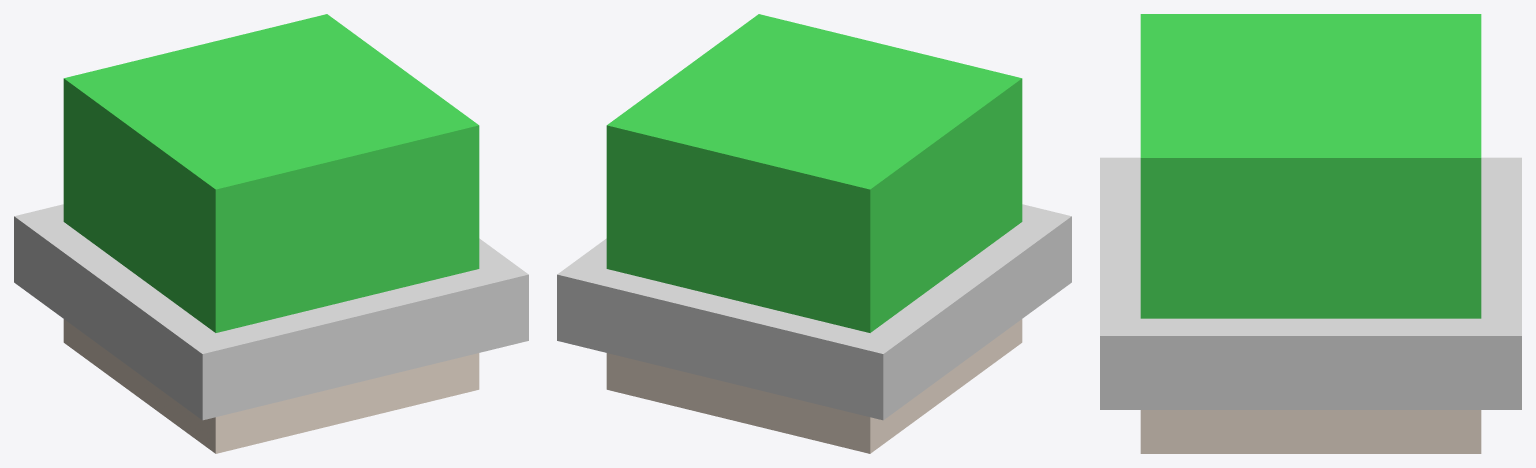
The picture shows the model from 3 angles, left to right: view 1: azimuth 30°, elevation 25°; view 2: azimuth 150°, elevation 25°; view 3: azimuth 270°, elevation 25°; orthographic projection. The views are drawn at different scales.
Visible parts, largest first — view 1: Cube.002, Cube.001, Cube; view 2: Cube.002, Cube.001, Cube; view 3: Cube.002, Cube.001, Cube.
Part boxes in pixels (x1=…): Cube.002: x1=63, y1=14, x2=479, y2=332; Cube.001: x1=14, y1=204, x2=528, y2=420; Cube: x1=63, y1=319, x2=479, y2=453; Cube.002: x1=606, y1=14, x2=1022, y2=332; Cube.001: x1=557, y1=204, x2=1071, y2=420; Cube: x1=606, y1=319, x2=1022, y2=453; Cube.002: x1=1140, y1=14, x2=1481, y2=318; Cube.001: x1=1100, y1=157, x2=1521, y2=409; Cube: x1=1140, y1=410, x2=1481, y2=453.
Bounding box in the file's own units: 248 × 192 × 248.
